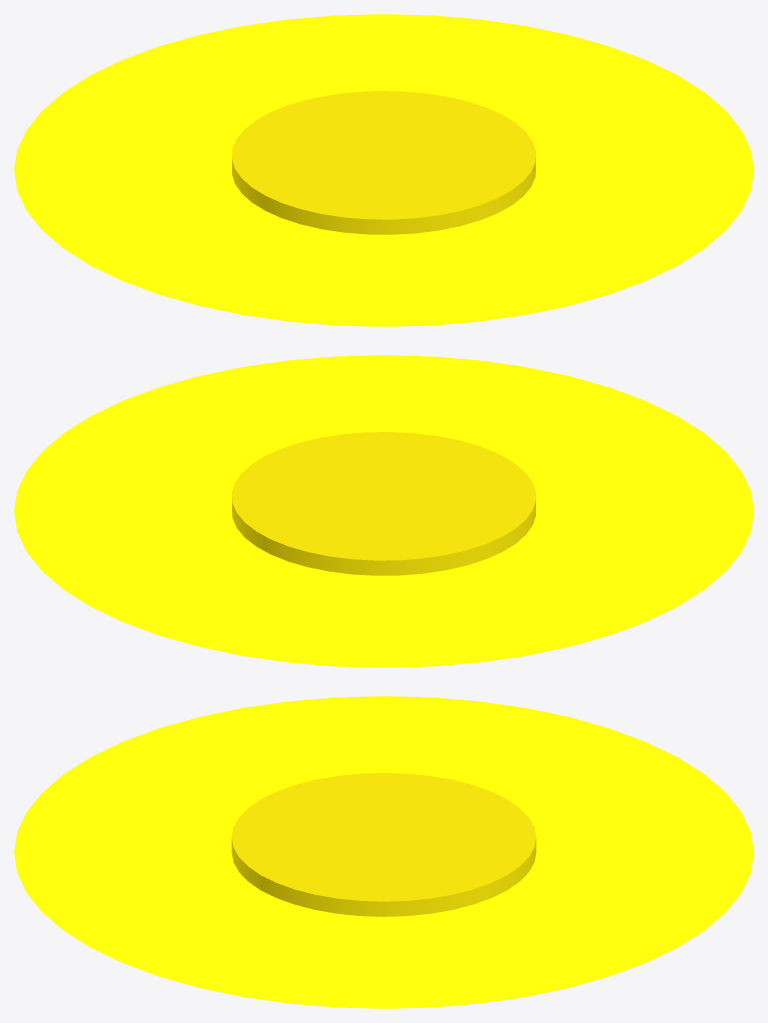
File: pad-ffd700.glb
3 renders of one model, top to bottom at view 1: azimuth 30°, elevation 25°; view 2: azimuth 150°, elevation 25°; view 3: azimuth 270°, elevation 25°, orthographic.
Visible parts, largest first — view 1: plat; view 2: plat; view 3: plat.
Boxes of the visible parts, <box> form: plat: <box>14,14,753,326</box>; plat: <box>14,355,753,667</box>; plat: <box>14,696,753,1008</box>.
Size of the model in its own units: 3.4 by 0.08 by 3.4.
Materials: 2 (2 with a texture image).
